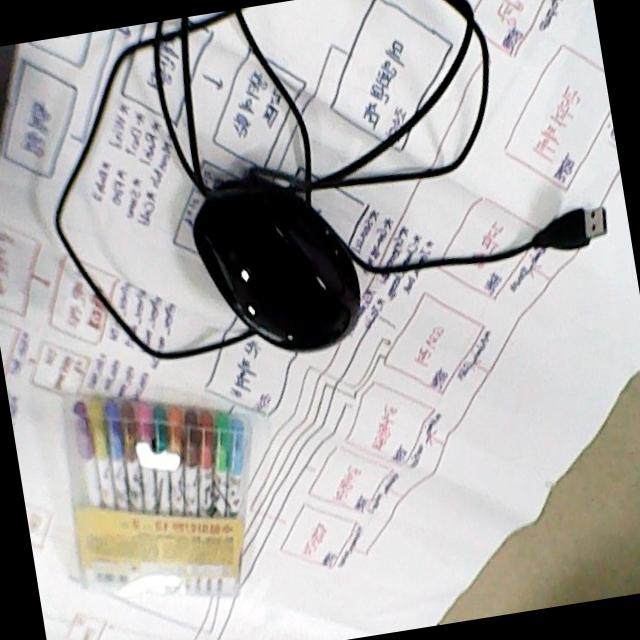mouse: (181, 167, 374, 359)
signpen: (50, 387, 257, 607)
